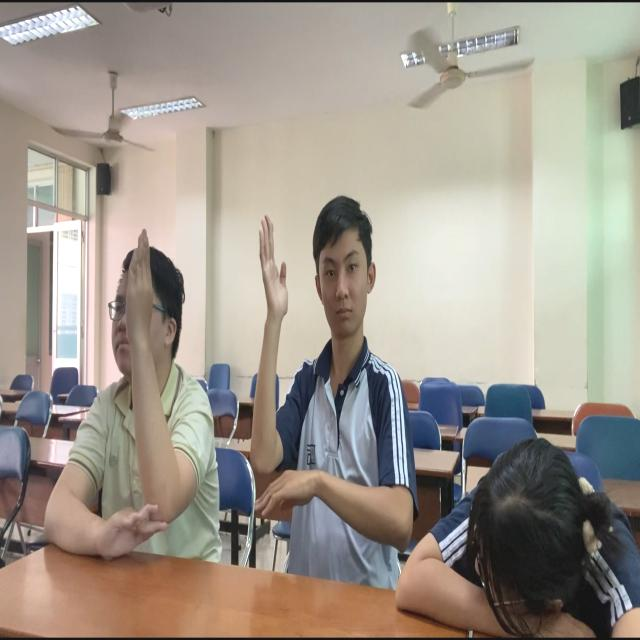raise_hand: (240, 195, 409, 625), (40, 220, 225, 605)
sleep: (392, 393, 639, 640)
